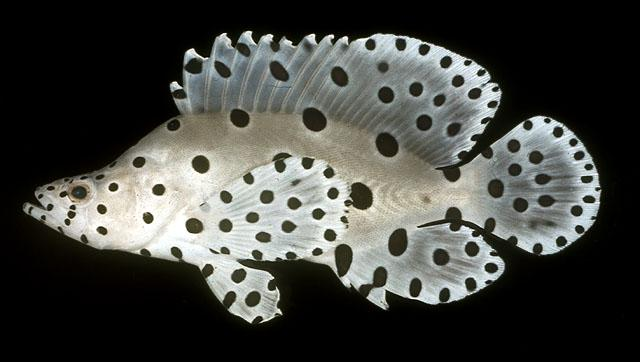Mulut: (15, 174, 66, 236)
Sirip Anal: (349, 218, 509, 318)
Sirip Dada: (198, 145, 354, 266)
Sirip Ekor: (497, 106, 613, 262)
Sirip Perut: (193, 251, 284, 328)
Sirip Punggung: (165, 18, 508, 166)
